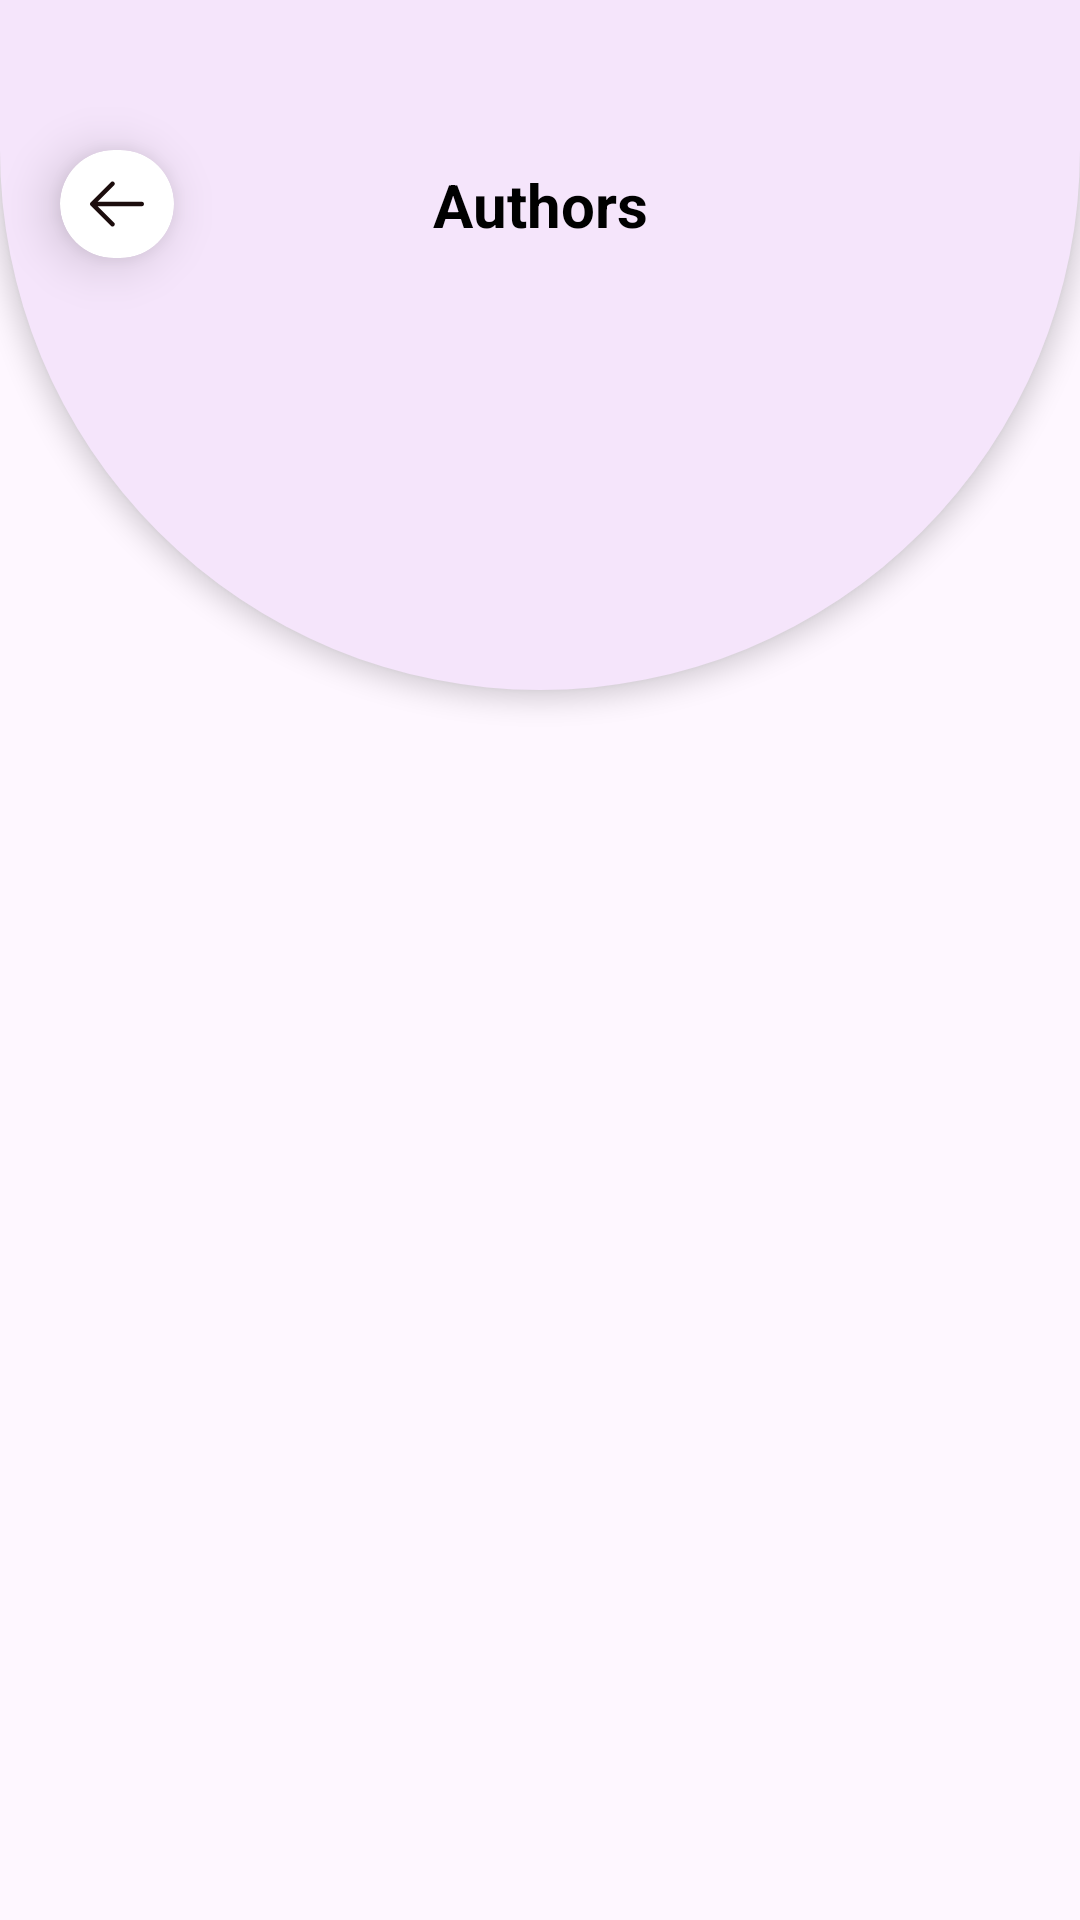

Icons on this 1080px x 1920px Android screen, each with the point to tap as (x,y):
back: (117,204)
